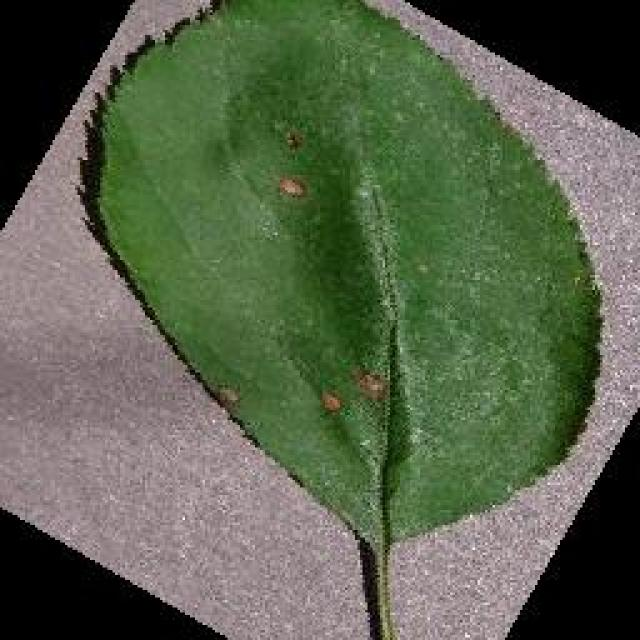Black_rot: (75, 0, 607, 638)
